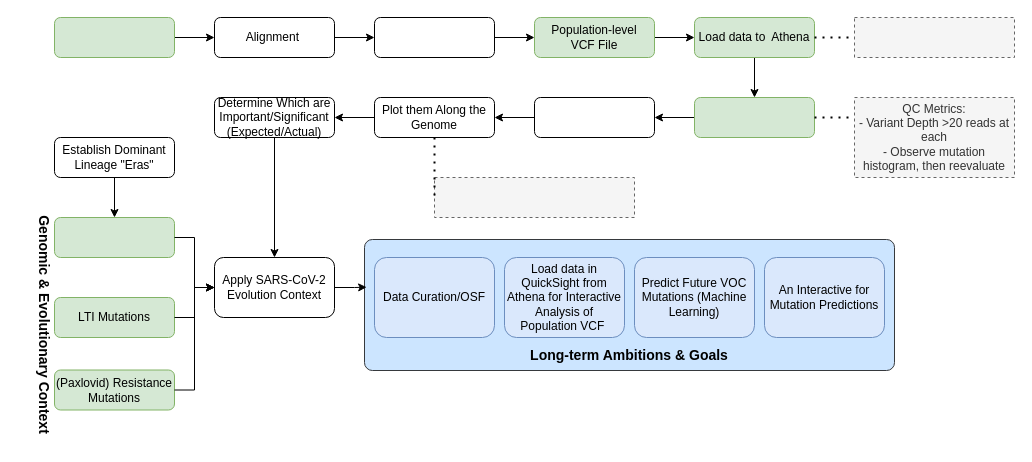
Some shapes in this 1032 by 462 pixel diagram are drawn without their labels. The box of each missing label's shape, as (x1, y1, x2, y2) in pixels:
Base filter of 0.01%: (434, 176, 634, 218)
Calculate minor allele frequency and mean: (534, 96, 654, 138)
Data data table: (854, 16, 1014, 58)
Download/Filter Data from Athena: (694, 96, 814, 138)
Reads: (54, 16, 174, 58)
Variant Calling: (374, 16, 494, 58)
VOC Lineages & Mutations: (54, 216, 174, 258)
